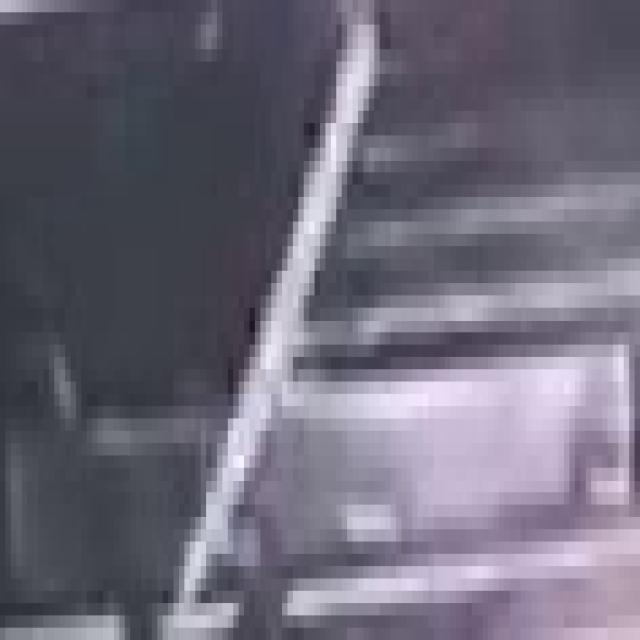stick: (158, 12, 396, 617)
